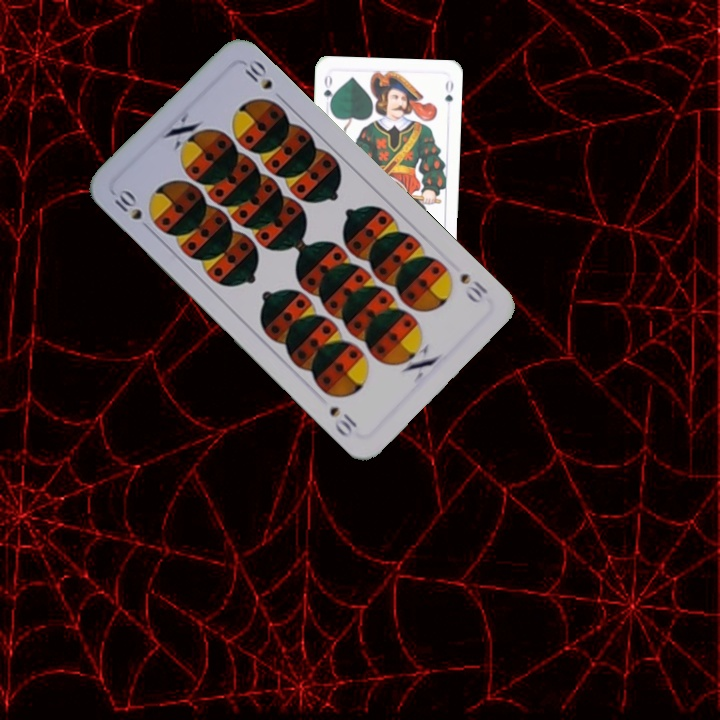GO: (319, 71, 337, 111)
S10: (109, 185, 155, 233), (456, 269, 491, 307)
